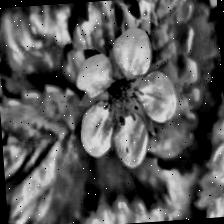Blossom Blight: (99, 70, 149, 128)
